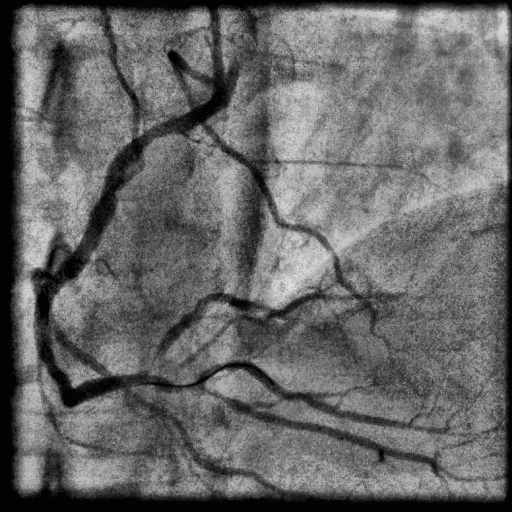pborca: (143, 292, 251, 373)
pda: (147, 363, 451, 436)
rca: (34, 92, 231, 408)
